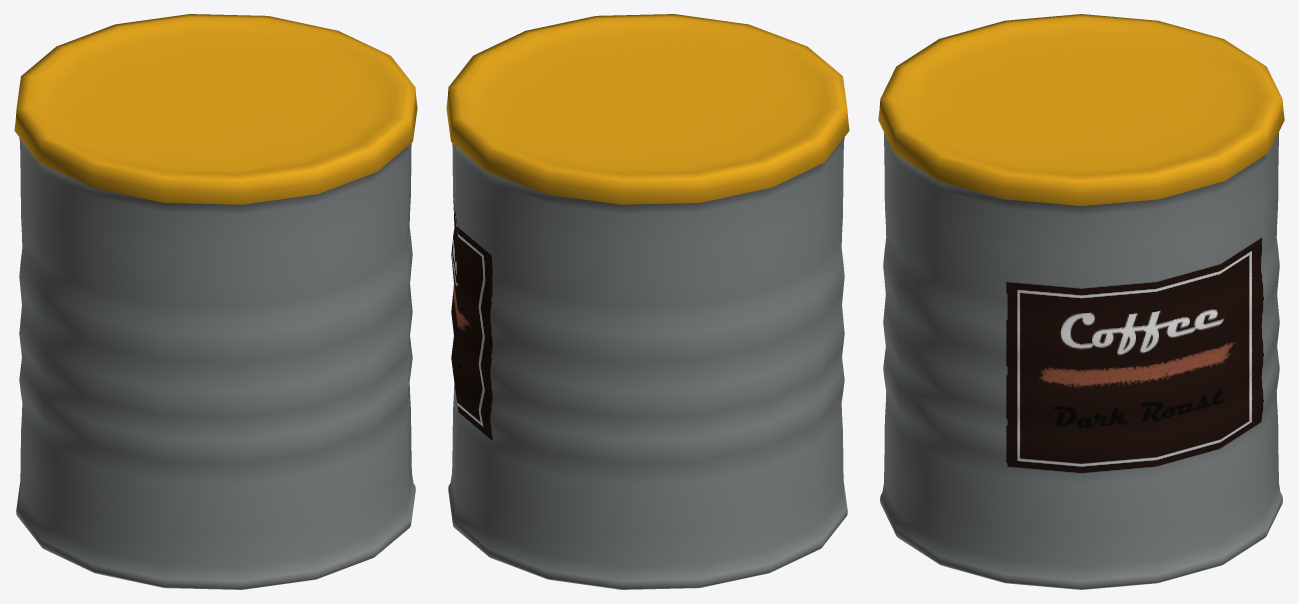
The model's file is coffee.fbx.
3 renders of one model, left to right at view 1: azimuth 30°, elevation 25°; view 2: azimuth 150°, elevation 25°; view 3: azimuth 270°, elevation 25°, orthographic.
Visible parts, largest first — view 1: pCylinder1; view 2: pCylinder1; view 3: pCylinder1.
Part boxes in pixels (x1=…): pCylinder1: x1=14, y1=14, x2=417, y2=589; pCylinder1: x1=446, y1=14, x2=849, y2=589; pCylinder1: x1=878, y1=14, x2=1284, y2=589.
Bounding box in the file's own units: 21.11 × 21.11 × 23.44.
Materials: 1 (1 with a texture image).
